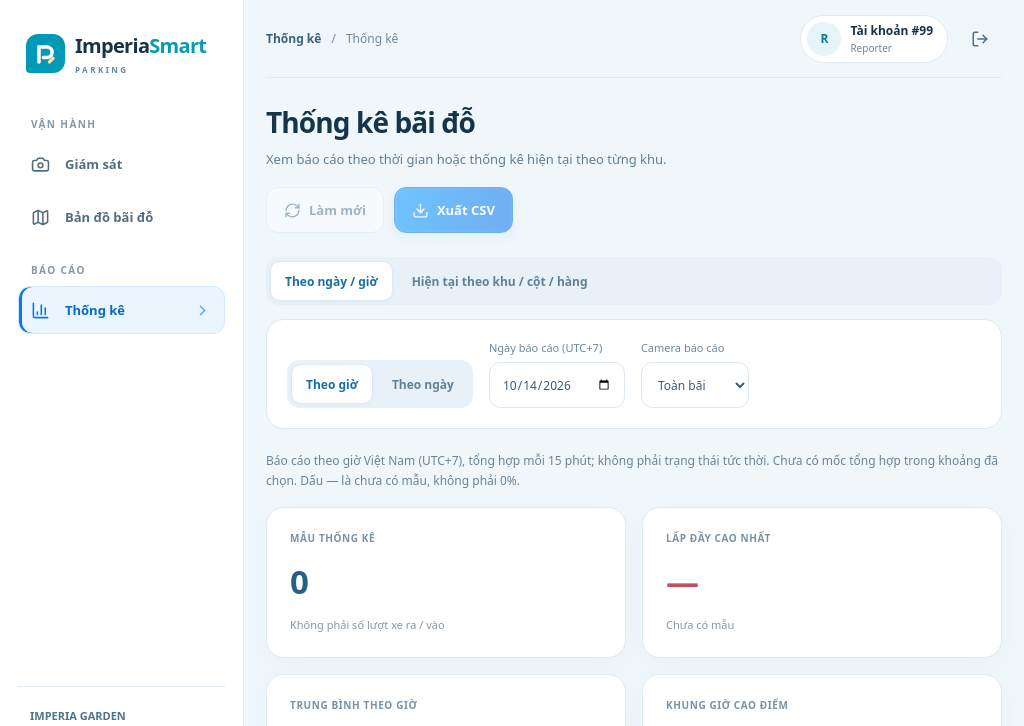
Test: hourly and daily report filters › discards a late report from the previous camera filter
This screenshot has width=1024, height=726.
Select "Camera #7" in the dropdown labelled "Camera báo cáo" at (695, 385), box [641,362,749,408]
(page scrolled)
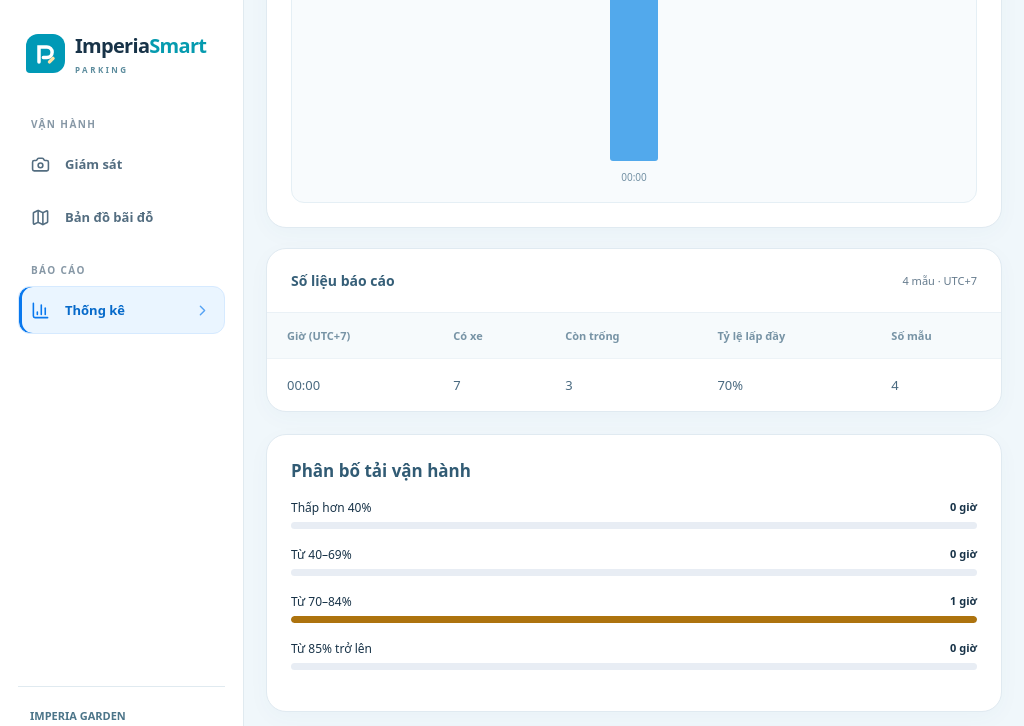
Expected: the text "70%" is shown, [697,358,871,411]
